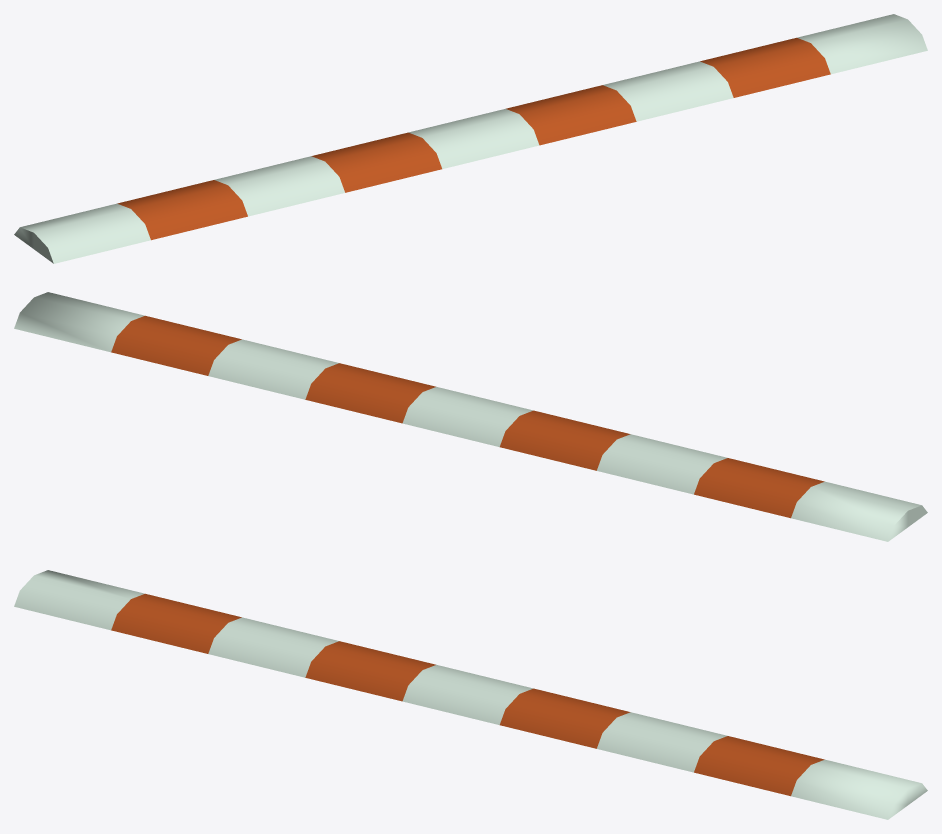
The model's file is Retarder1.fbx.
3 views of the same model, one above another, from view 1: azimuth 30°, elevation 25°; view 2: azimuth 150°, elevation 25°; view 3: azimuth 330°, elevation 25° (orthographic).
Parts seen in each view (by area): view 1: Retarder1; view 2: Retarder1; view 3: Retarder1.
Boxes of the visible parts, box(x1,y1,x2,y2) form: Retarder1: box(14, 14, 927, 263); Retarder1: box(14, 292, 927, 541); Retarder1: box(14, 570, 927, 819).
Bounding box in the file's own units: 9.06 × 0.1651 × 0.717.
